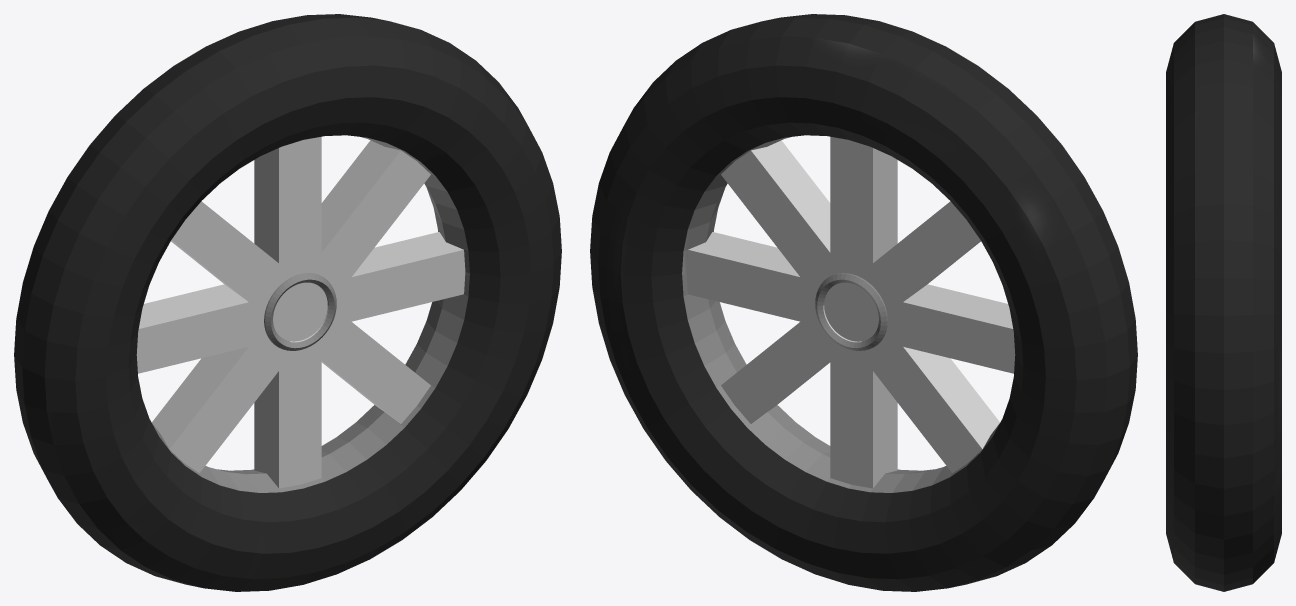
The model's file is Player.obj.
3 renders of one model, left to right at view 1: azimuth 30°, elevation 25°; view 2: azimuth 150°, elevation 25°; view 3: azimuth 270°, elevation 25°, orthographic. The views are drawn at different scales.
Parts seen in each view (by area): view 1: トーラス; view 2: トーラス; view 3: トーラス.
Part boxes in pixels (left/top/right/bottom): トーラス: left=14, top=14, right=561, bottom=591; トーラス: left=590, top=14, right=1137, bottom=591; トーラス: left=1166, top=14, right=1281, bottom=591.
Bounding box in the file's own units: 2.5 × 2.5 × 0.5.
Materials: 1 (1 with a texture image).
